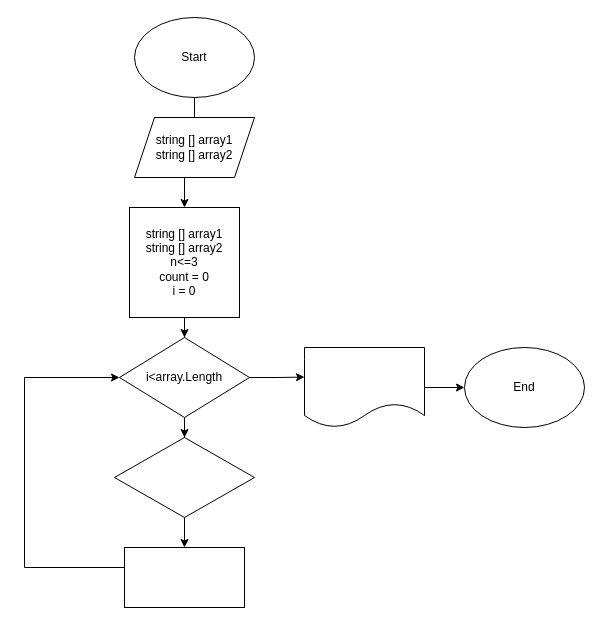
Some shapes in this 602 by 625 pixel diagram are drawn without their labels. The shapes that lost their labels are listed below. From the top down, each one's centre as x and y in pixels, then its label:
the point at 364,387: Print
the point at 184,477: array1[i].Length<=3
the point at 184,577: i=i+1
